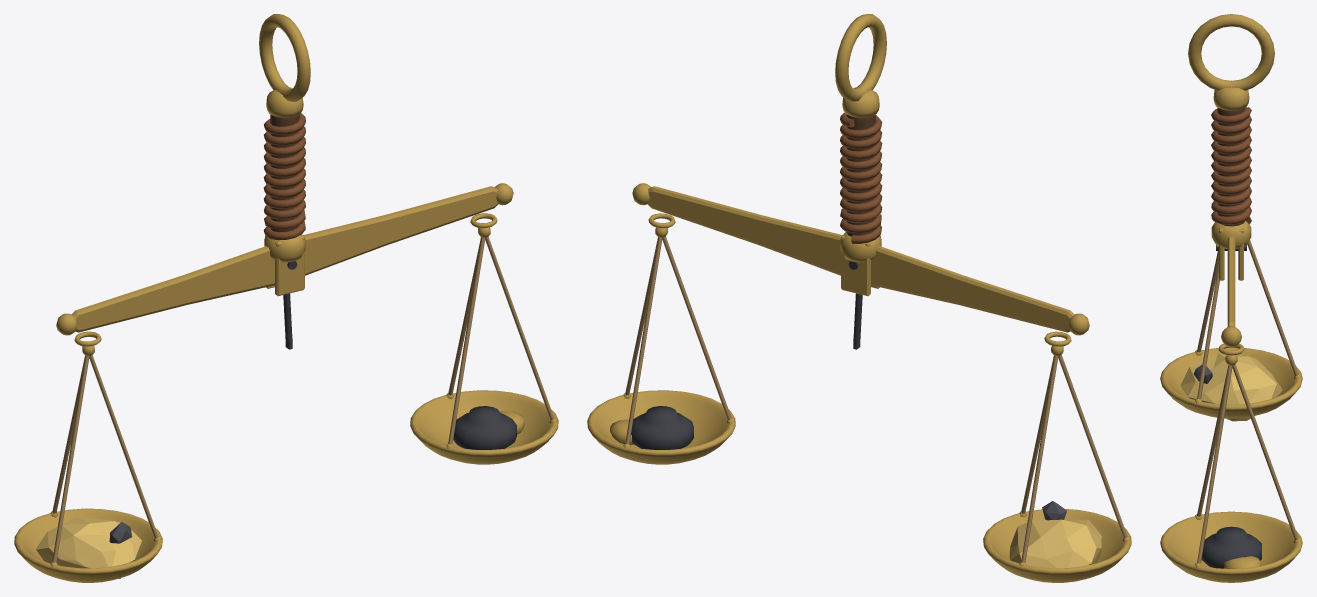
File: tool_handscales.fbx
3 views of the same model, side by side, from view 1: azimuth 30°, elevation 25°; view 2: azimuth 150°, elevation 25°; view 3: azimuth 270°, elevation 25° (orthographic). The views are drawn at different scales.
Visible parts, largest first — view 1: Tool_HandScales_Beam, Tool_HandScales_PanL, Tool_HandScales_PanR, Tool_HandScales_Fittings, Tool_HandScales_Stem; view 2: Tool_HandScales_Beam, Tool_HandScales_PanL, Tool_HandScales_PanR, Tool_HandScales_Stem, Tool_HandScales_Fittings; view 3: Tool_HandScales_PanR, Tool_HandScales_PanL, Tool_HandScales_Fittings, Tool_HandScales_Stem, Tool_HandScales_Beam.
Part boxes in pixels (bbox=[...]): Tool_HandScales_Beam: bbox=[56, 183, 513, 349]; Tool_HandScales_PanL: bbox=[14, 345, 162, 582]; Tool_HandScales_PanR: bbox=[410, 227, 558, 464]; Tool_HandScales_Fittings: bbox=[259, 14, 310, 296]; Tool_HandScales_Stem: bbox=[263, 113, 305, 240]; Tool_HandScales_Beam: bbox=[632, 183, 1089, 349]; Tool_HandScales_PanL: bbox=[983, 346, 1131, 582]; Tool_HandScales_PanR: bbox=[587, 227, 735, 464]; Tool_HandScales_Stem: bbox=[840, 112, 882, 243]; Tool_HandScales_Fittings: bbox=[835, 14, 886, 296]; Tool_HandScales_PanR: bbox=[1160, 355, 1302, 582]; Tool_HandScales_PanL: bbox=[1160, 240, 1302, 421]; Tool_HandScales_Fittings: bbox=[1188, 14, 1274, 280]; Tool_HandScales_Stem: bbox=[1211, 107, 1251, 226]; Tool_HandScales_Beam: bbox=[1218, 236, 1244, 355].
Size of the model in its own units: 63.03 by 58.68 by 15.5.
